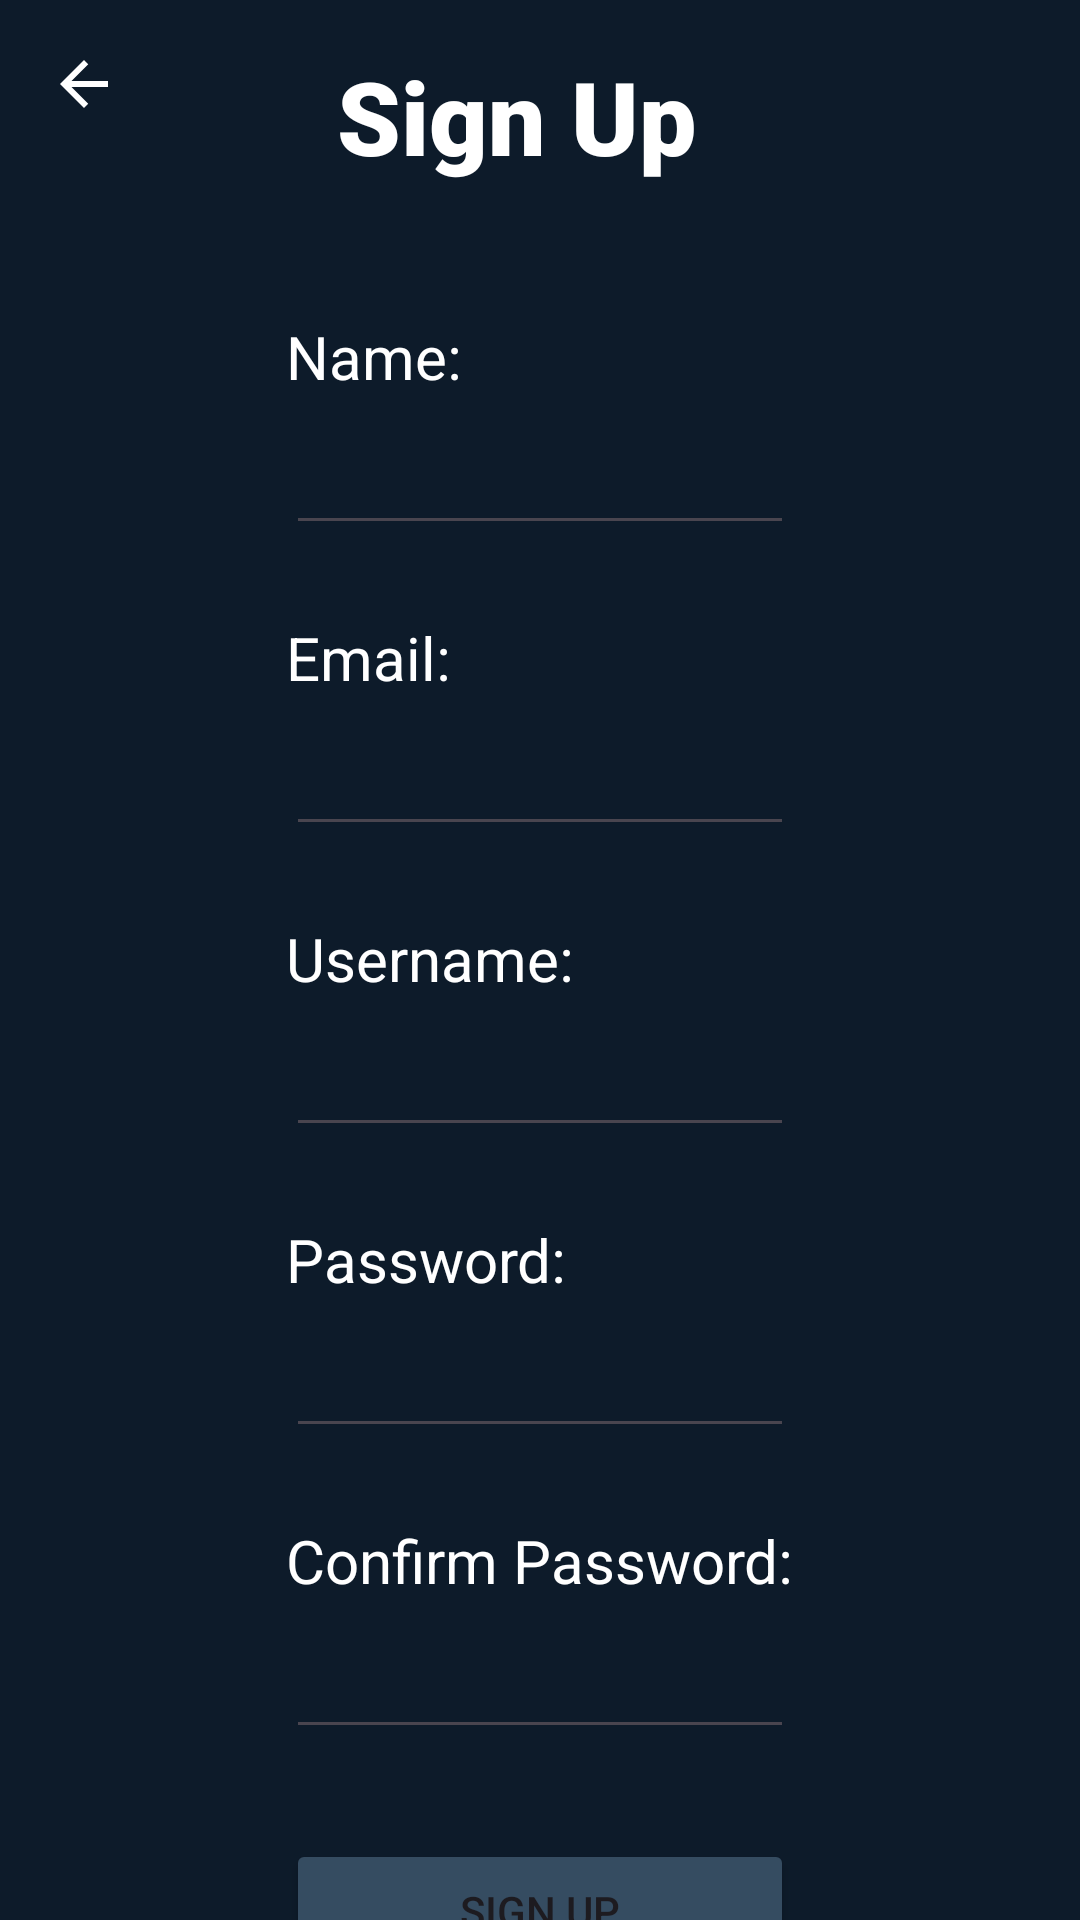

Point at icon controls on the screen. Image size 1080w x 1920h, points as (x,y).
back arrow: (84,84)
